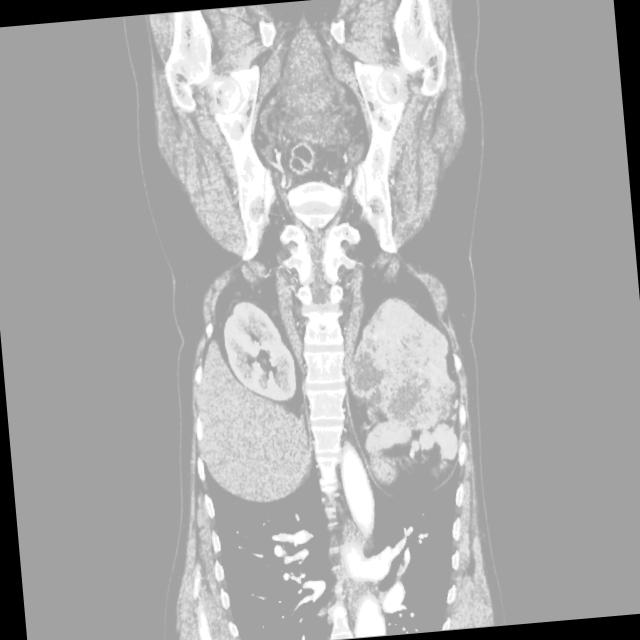TUMOR: (133, 215, 496, 516)
